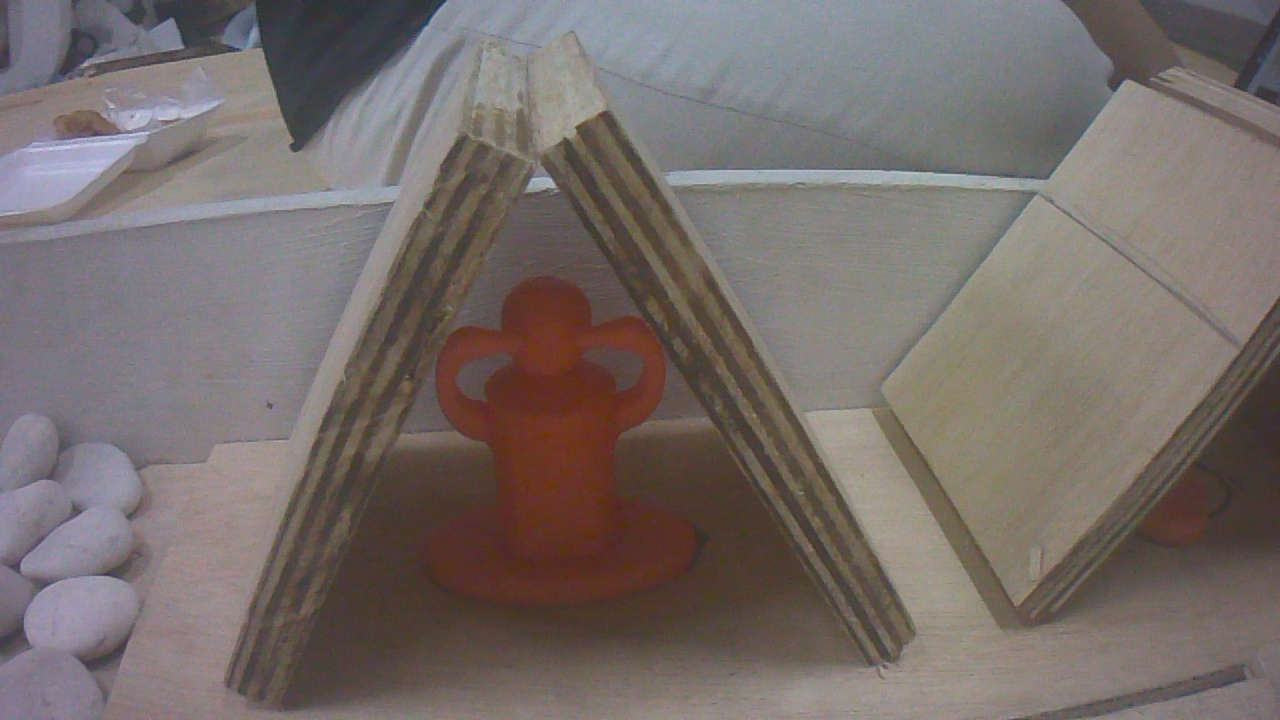real: (425, 282, 702, 623)
